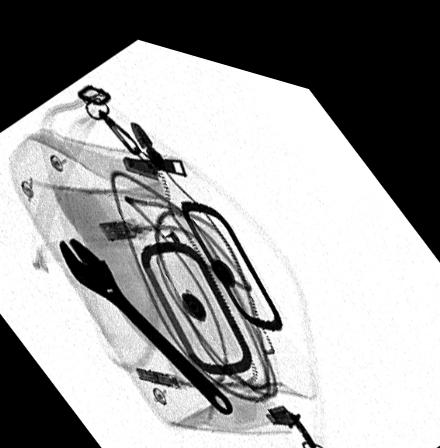Wrench: (58, 231, 234, 401)
